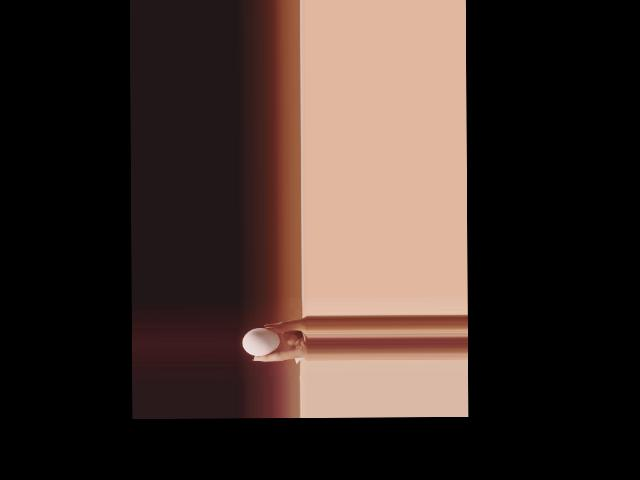egg: (242, 327, 280, 356)
